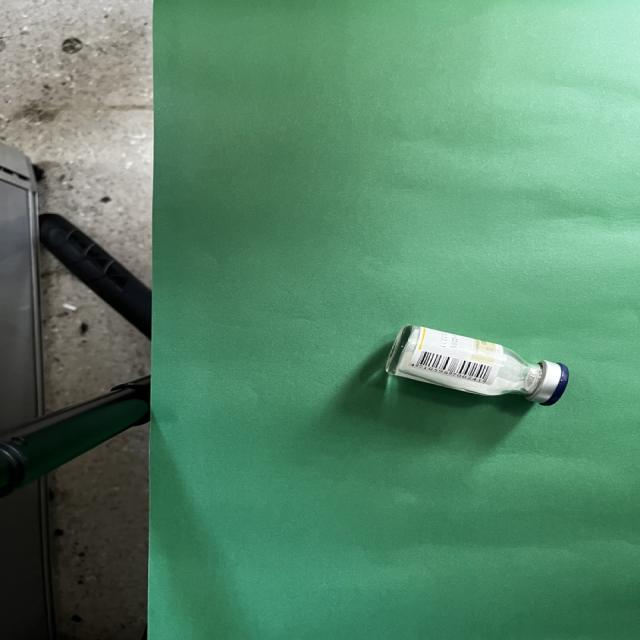Vials: (385, 325, 569, 406)
